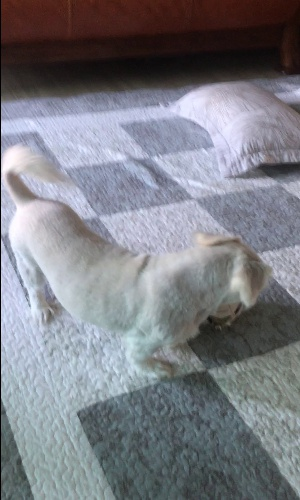ddubi: (2, 143, 273, 381)
